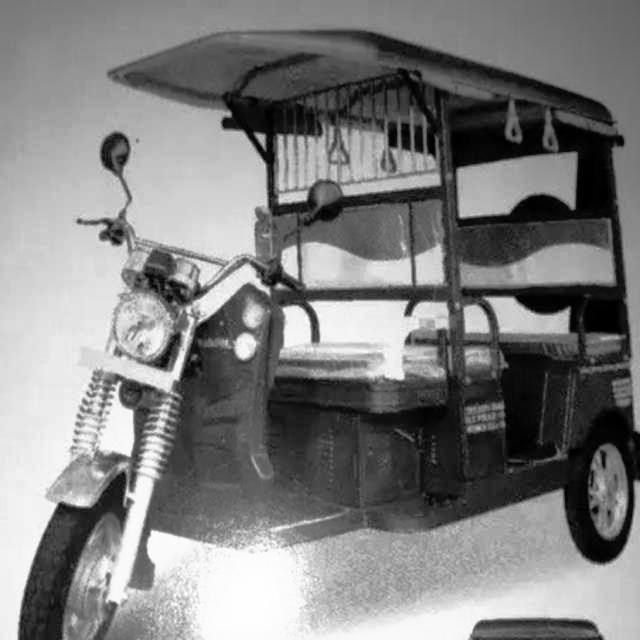Toto: (15, 37, 640, 640)
